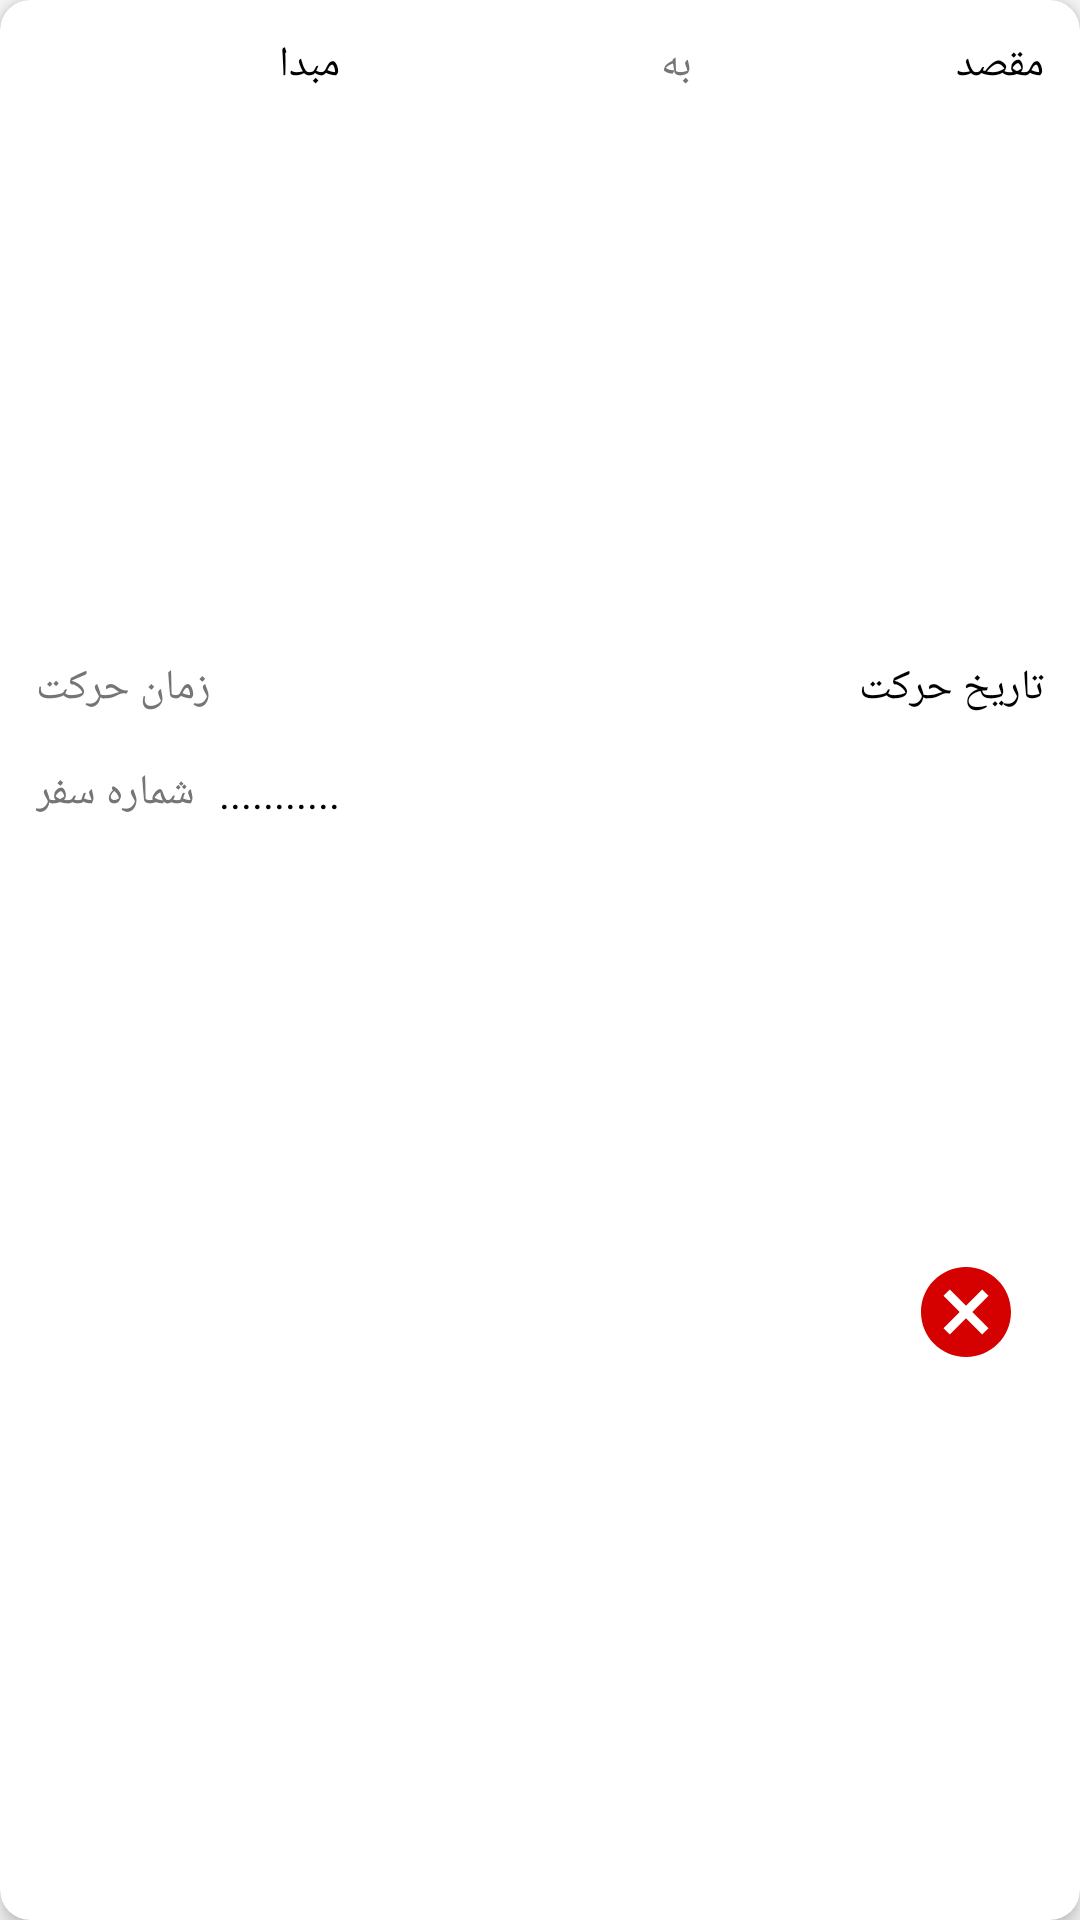

Where icons sit on this 1080w x 1920h app screen, as {"x1": x1, "y1": y1, "x2": x2, "y2": y2}:
cancel: {"x1": 921, "y1": 1267, "x2": 1011, "y2": 1357}
